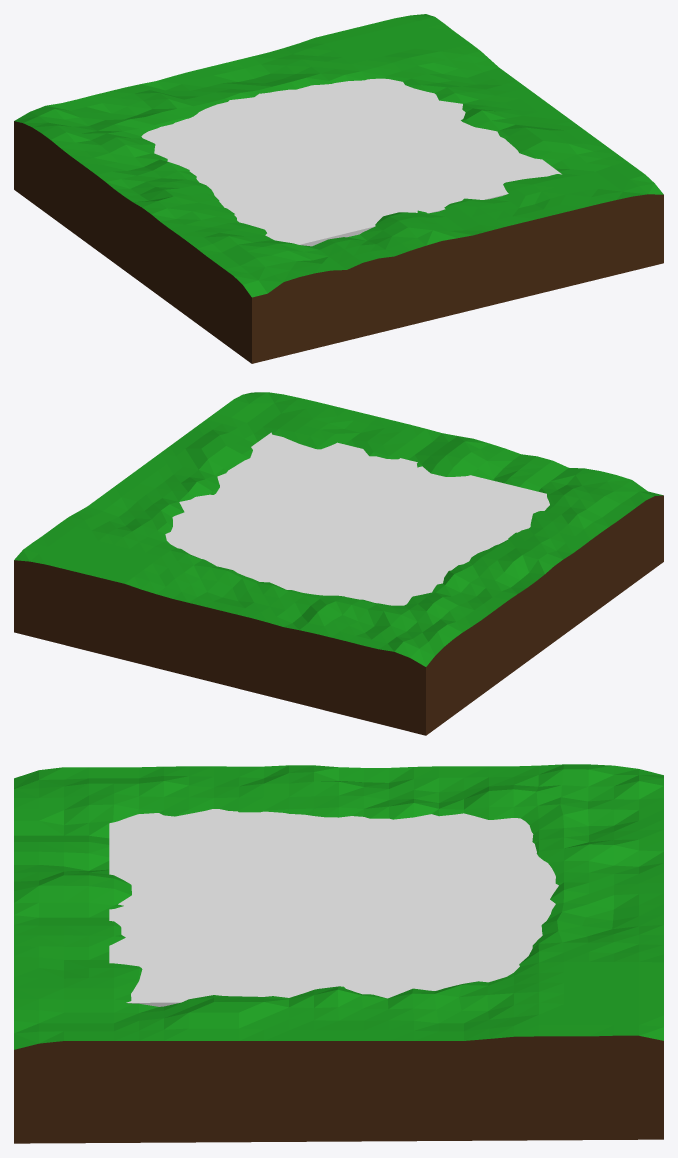
File: PondTest1.fbx
The picture shows the model from 3 angles, top to bottom: view 1: azimuth 30°, elevation 25°; view 2: azimuth 150°, elevation 25°; view 3: azimuth 270°, elevation 25°; orthographic projection. The views are drawn at different scales.
Visible parts, largest first — view 1: Cube.001, Cube; view 2: Cube.001, Cube; view 3: Cube.001, Cube.
Boxes of the visible parts, box(x1,y1,x2,y2) form: Cube.001: box(14, 14, 663, 363); Cube: box(141, 78, 561, 246); Cube.001: box(14, 392, 663, 735); Cube: box(165, 432, 549, 605); Cube.001: box(14, 764, 663, 1143); Cube: box(109, 809, 558, 1006).
Bounding box in the file's own units: 20033 × 3799 × 20033.
